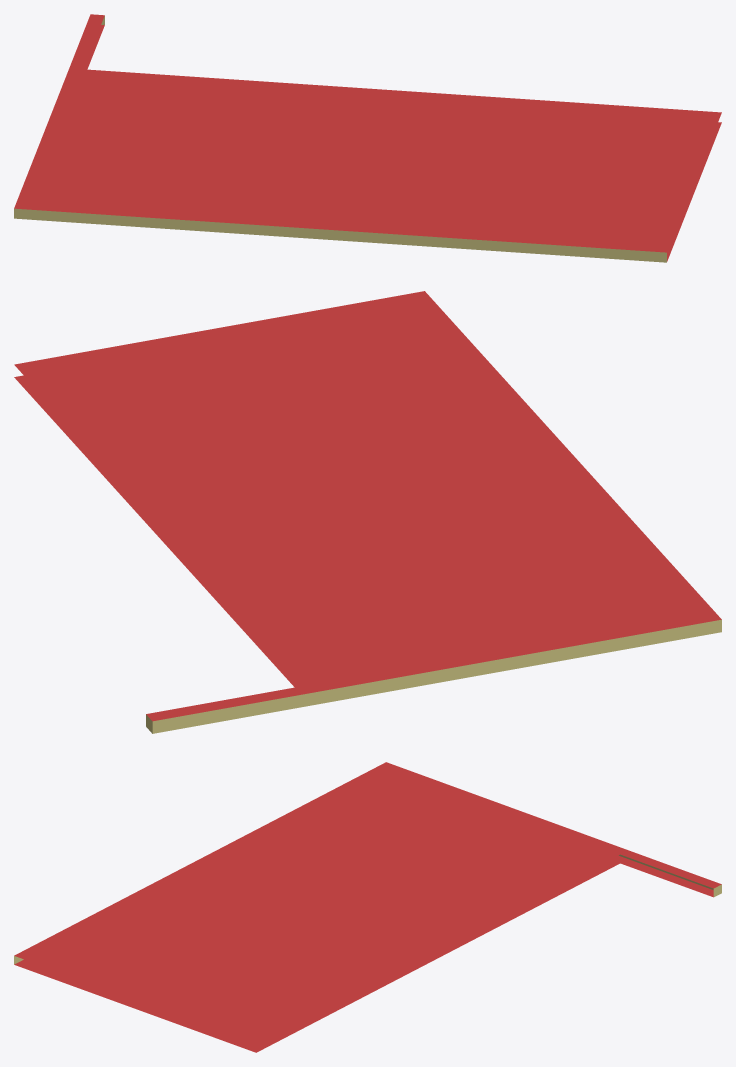
3 views of the same model, one above another, from view 1: azimuth 30°, elevation 25°; view 2: azimuth 150°, elevation 25°; view 3: azimuth 270°, elevation 25° (orthographic). The views are drawn at different scales.
Size of the model in its own units: 6.66 by 7.19 by 0.179.
